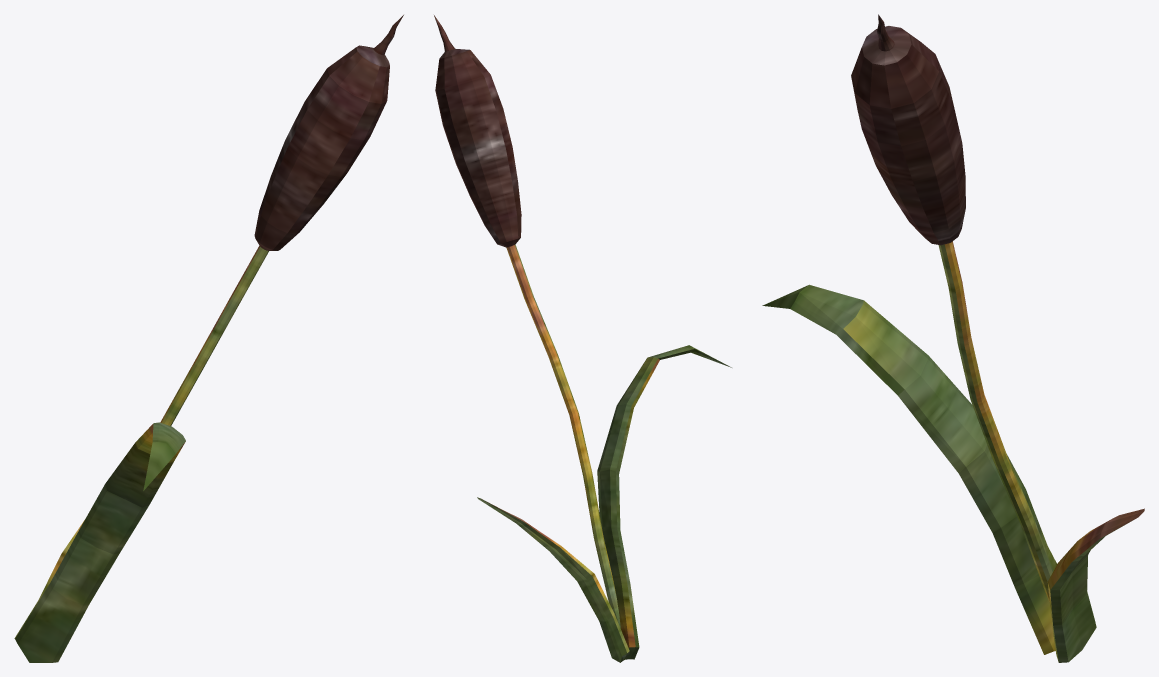
Rendered from cattail.obj.
3 renders of one model, left to right at view 1: azimuth 30°, elevation 25°; view 2: azimuth 150°, elevation 25°; view 3: azimuth 270°, elevation 25°, orthographic. The views are drawn at different scales.
Parts seen in each view (by area): view 1: Sphere.002_Sphere.003, Cube.005_Cube.009, Cylinder.002; view 2: Sphere.002_Sphere.003, Cube.005_Cube.009, Cylinder.002, Cube.004_Cube.008; view 3: Cube.005_Cube.009, Sphere.002_Sphere.003, Cylinder.002, Cube.004_Cube.008.
Boxes of the visible parts, x1=… form: Sphere.002_Sphere.003: x1=254, y1=15, x2=403, y2=250; Cube.005_Cube.009: x1=15, y1=422, x2=185, y2=662; Cylinder.002: x1=160, y1=246, x2=268, y2=425; Sphere.002_Sphere.003: x1=434, y1=15, x2=521, y2=247; Cube.005_Cube.009: x1=597, y1=345, x2=731, y2=659; Cylinder.002: x1=506, y1=244, x2=620, y2=627; Cube.004_Cube.008: x1=477, y1=497, x2=629, y2=662; Cube.005_Cube.009: x1=762, y1=284, x2=1056, y2=654; Sphere.002_Sphere.003: x1=851, y1=14, x2=965, y2=245; Cylinder.002: x1=938, y1=241, x2=1053, y2=601; Cube.004_Cube.008: x1=1047, y1=508, x2=1144, y2=662.
Bounding box in the file's own units: 2.48 × 4.76 × 1.99.
